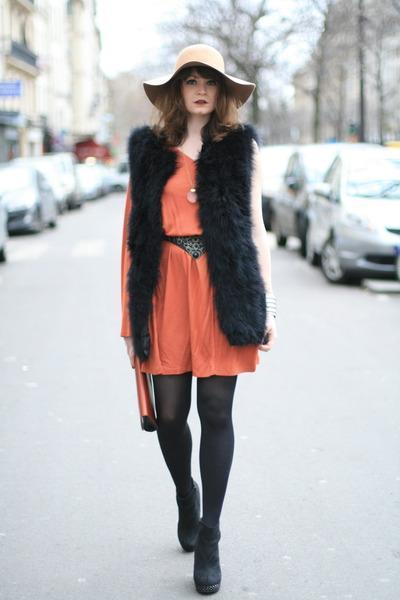bag: (132, 348, 168, 434)
dress: (147, 156, 266, 377)
hat: (164, 37, 224, 86)
jacket: (127, 124, 270, 347)
shoe: (177, 499, 220, 595)
